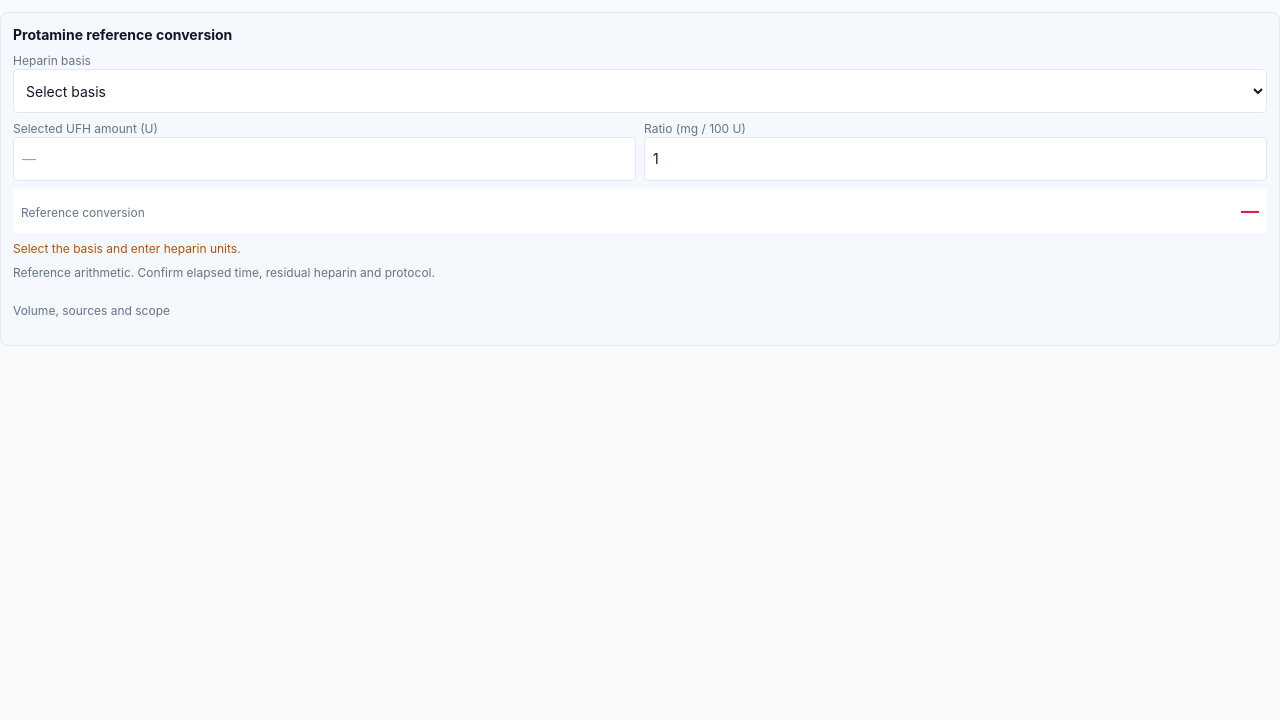
Visible calculator and actual-input boundaries › starts without an inferred heparin basis or actual dose, then calculates30mg
This screenshot has width=1280, height=720.
Expected: the number field named "Protamine heparin units" is not empty, [13, 137, 636, 181]
Expected: the text "—" is shown, [1241, 197, 1259, 225]
Select "Patient cumulative (excl. circuit)" in the dropdown named "Protamine heparin basis" at (640, 91), box [13, 69, 1267, 113]
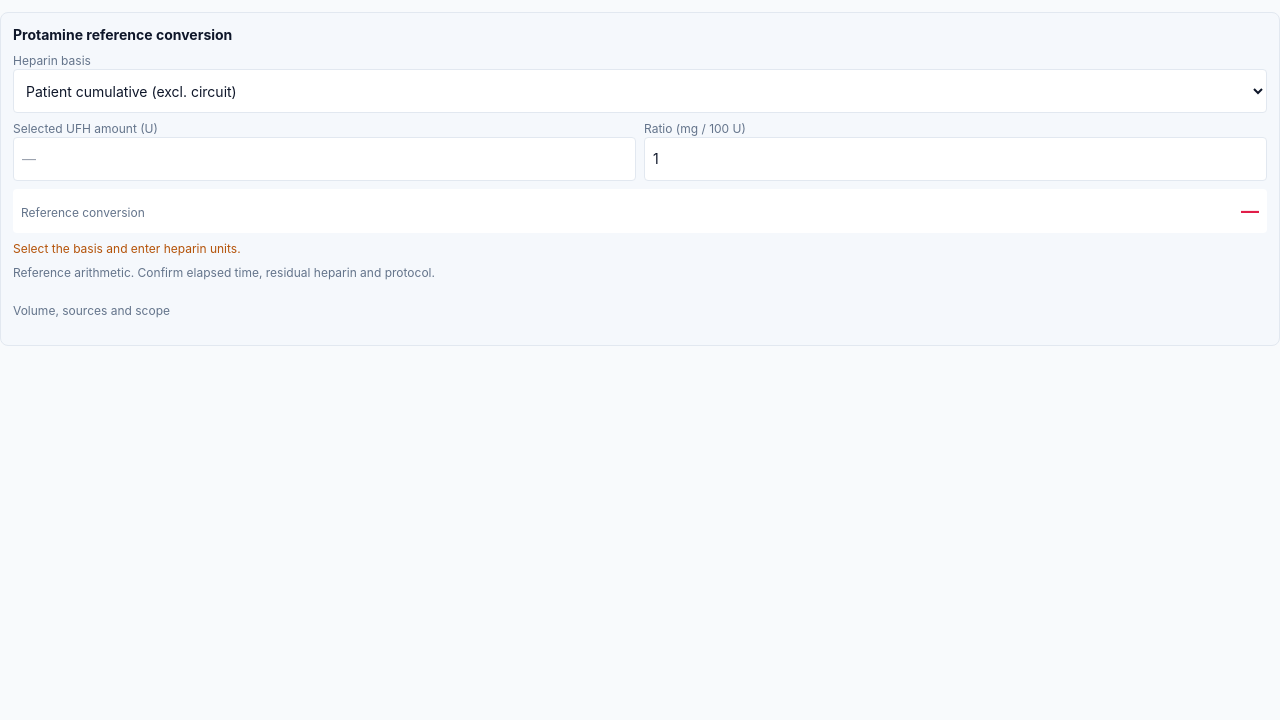
Type "3000" into the number field named "Protamine heparin units" at (324, 159), box [13, 137, 636, 181]
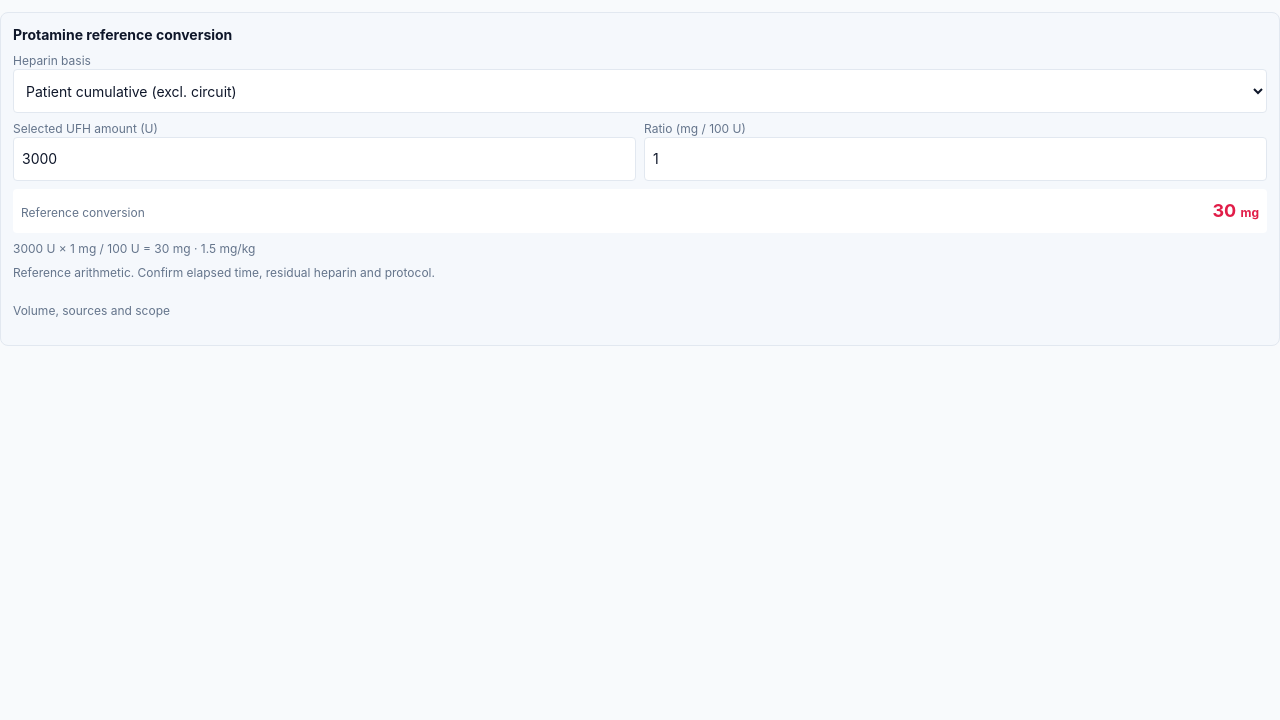
Expected: the element showing "30 mg" is shown, [1212, 197, 1259, 225]
Replace the text in the number field named "Protamine ratio mg per 100 units" with "1.3" at (956, 159), box [644, 137, 1267, 181]
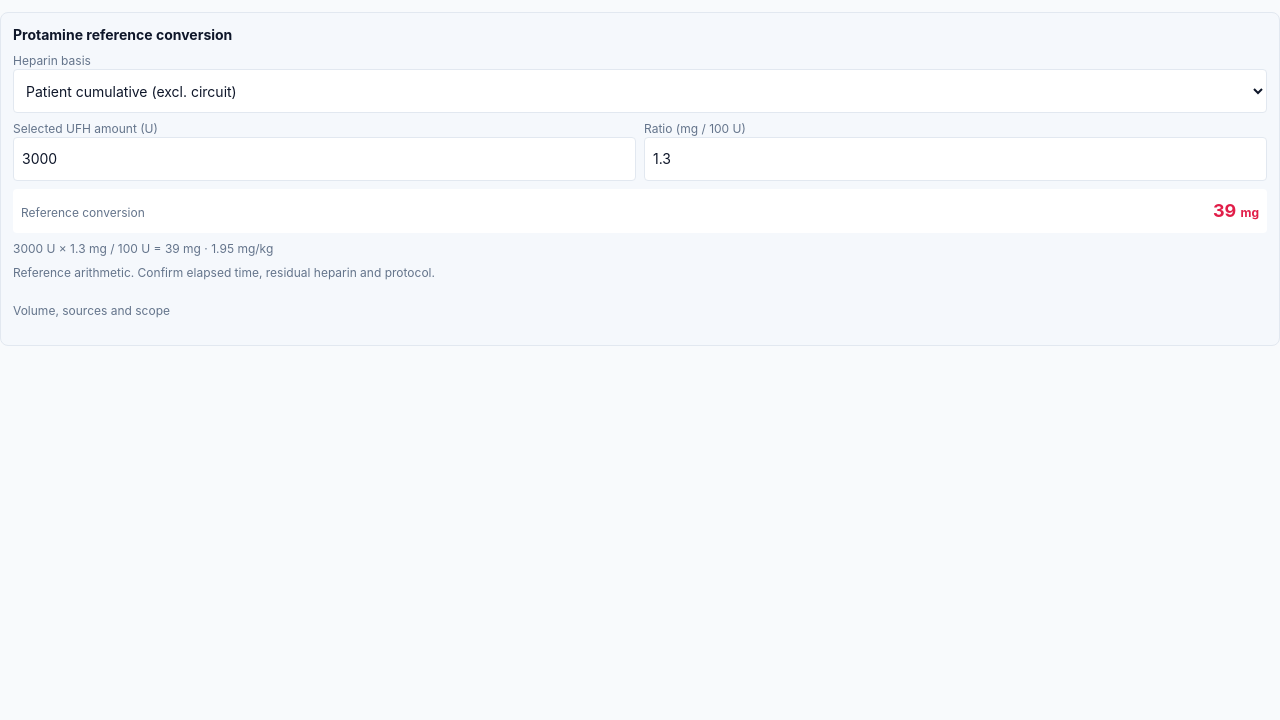
Expected: the element showing "39 mg" is shown, [1213, 197, 1259, 225]
Click the heading "Volume, sources and scope" at (92, 310), box [13, 303, 170, 318]
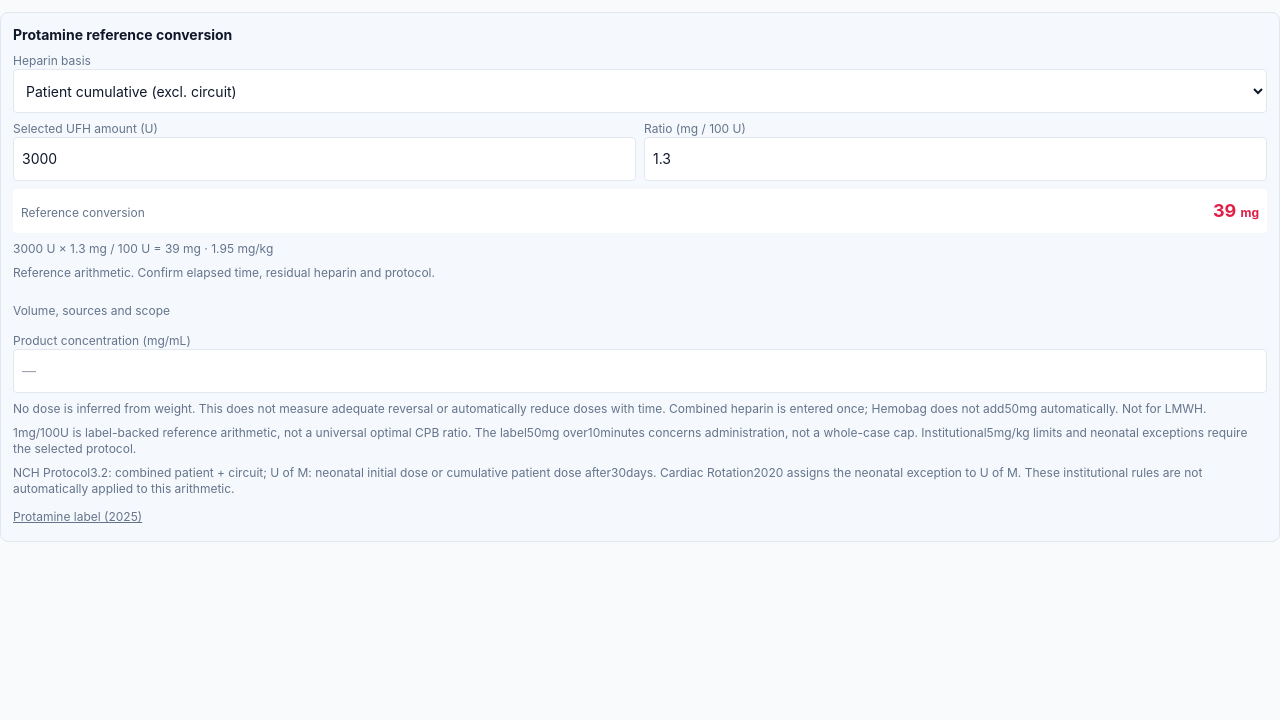
Type "10" into the number field named "Protamine product concentration mg per mL" at (640, 371), box [13, 349, 1267, 393]
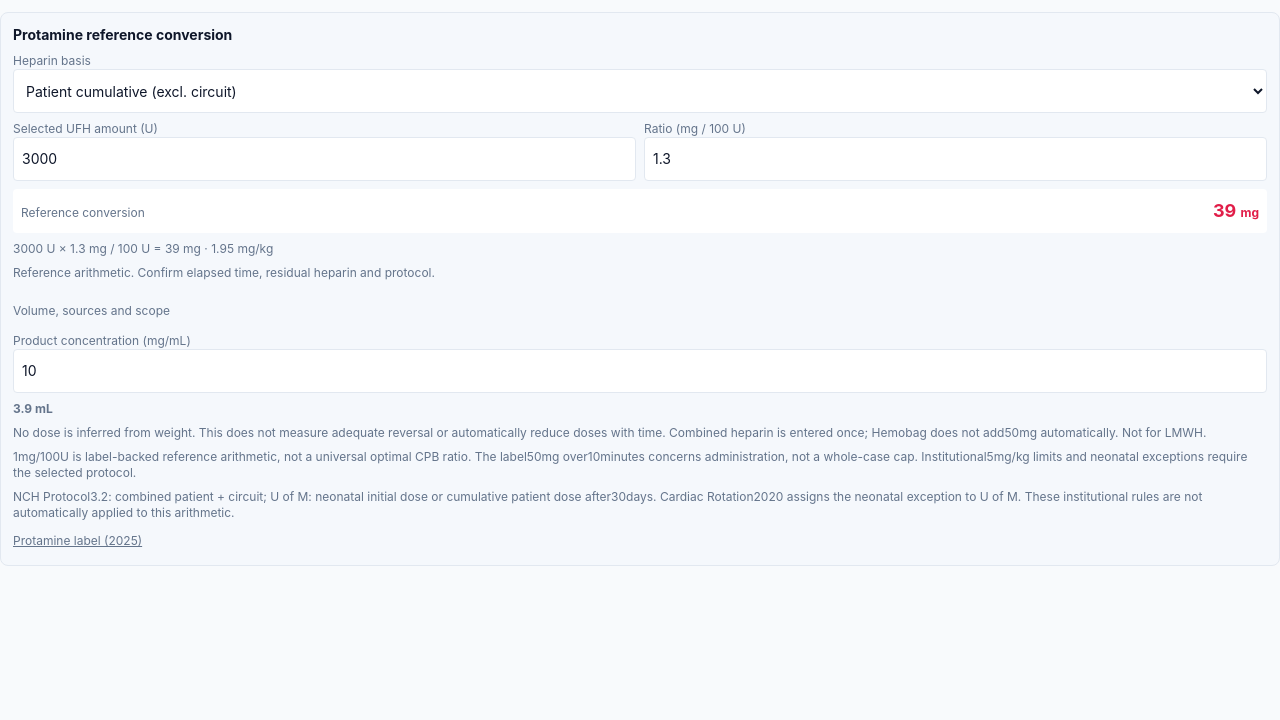
Expected: the text "3.9 mL" is shown, [13, 401, 53, 416]
Clear the number field named "Protamine heparin units" at (324, 159), box [13, 137, 636, 181]
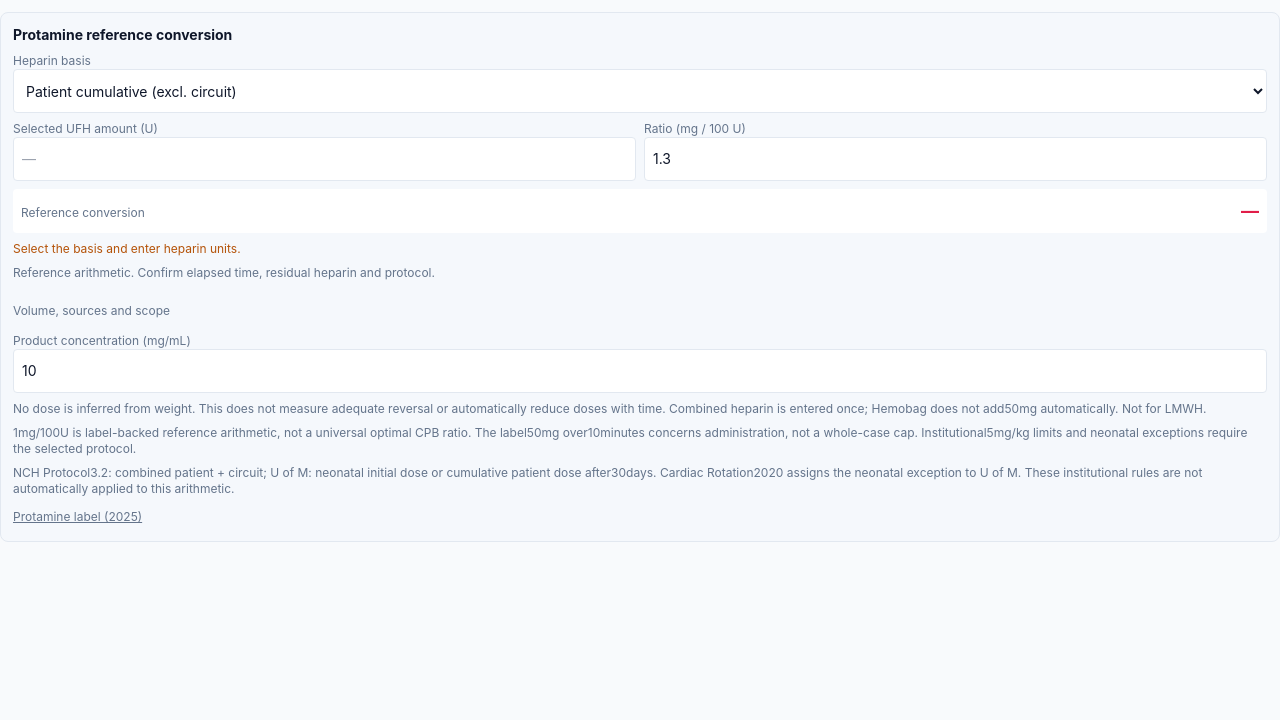
Expected: the text "—" is shown, [1241, 197, 1259, 225]
